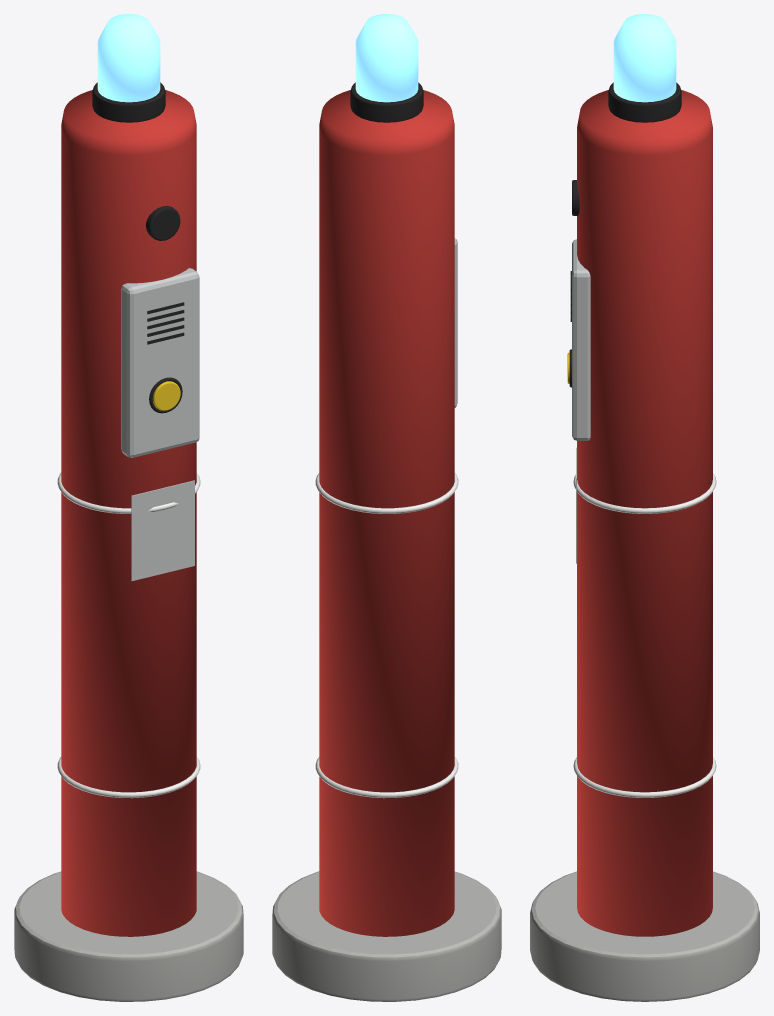
The model's file is city-emergency-call-pillar.glb.
The picture shows the model from 3 angles, left to right: view 1: azimuth 30°, elevation 25°; view 2: azimuth 150°, elevation 25°; view 3: azimuth 270°, elevation 25°; orthographic projection.
Parts seen in each view (by area): view 1: Assembly | Signal red pillar enamel, Assembly | Concrete footing, Assembly | Brushed stainless call panel, Assembly | Blue beacon lens, lit, Assembly | Speaker grille black, Assembly | White reflective band, Assembly | White reflective band.001, Assembly | Yellow call button; view 2: Assembly | Signal red pillar enamel, Assembly | Concrete footing, Assembly | Blue beacon lens, lit, Assembly | Speaker grille black, Assembly | White reflective band.001, Assembly | White reflective band, Assembly | Brushed stainless call panel; view 3: Assembly | Signal red pillar enamel, Assembly | Concrete footing, Assembly | Blue beacon lens, lit, Assembly | Brushed stainless call panel, Assembly | Speaker grille black, Assembly | White reflective band, Assembly | White reflective band.001.
Boxes of the visible parts, <box> form: Assembly | Signal red pillar enamel: <box>61,90,196,936</box>; Assembly | Concrete footing: <box>14,871,243,1001</box>; Assembly | Brushed stainless call panel: <box>121,268,199,581</box>; Assembly | Blue beacon lens, lit: <box>97,14,160,102</box>; Assembly | Speaker grille black: <box>92,82,184,413</box>; Assembly | White reflective band: <box>57,756,200,798</box>; Assembly | White reflective band.001: <box>57,472,200,513</box>; Assembly | Yellow call button: <box>152,381,180,410</box>; Assembly | Signal red pillar enamel: <box>319,90,454,936</box>; Assembly | Concrete footing: <box>272,871,501,1001</box>; Assembly | Blue beacon lens, lit: <box>355,14,418,102</box>; Assembly | Speaker grille black: <box>350,82,423,122</box>; Assembly | White reflective band.001: <box>315,472,458,513</box>; Assembly | White reflective band: <box>315,756,458,798</box>; Assembly | Brushed stainless call panel: <box>454,238,457,407</box>; Assembly | Signal red pillar enamel: <box>577,90,712,936</box>; Assembly | Concrete footing: <box>530,871,759,1001</box>; Assembly | Blue beacon lens, lit: <box>613,14,676,102</box>; Assembly | Brushed stainless call panel: <box>572,239,590,563</box>; Assembly | Speaker grille black: <box>569,82,681,387</box>; Assembly | White reflective band: <box>573,757,716,797</box>; Assembly | White reflective band.001: <box>573,473,716,513</box>.
Size of the model in its own units: 0.44 by 1.98 by 0.44.
